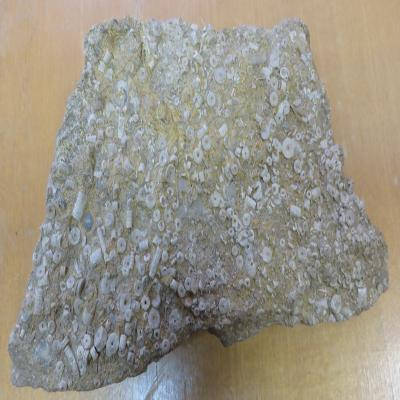mineralogy: (9, 17, 388, 391)
